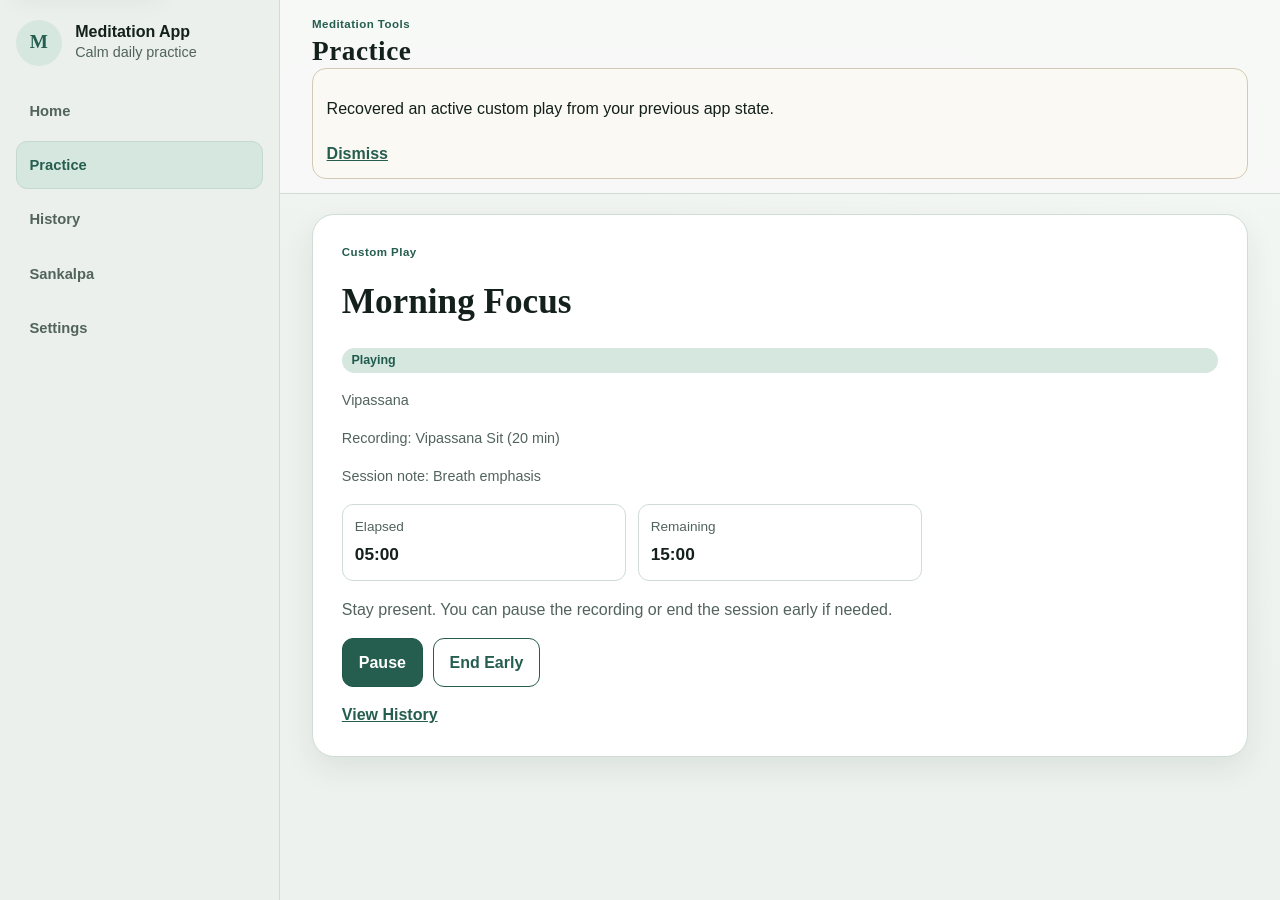
it: CustomPlayRunPage UX › ends an active custom play early and saves a custom-play-aware session log
The image size is (1280, 900).
Check: the heading "Morning Focus" is shown, box 342,282 -> 572,320
Check: the text "Recording: Vipassana Sit (20 min)" is shown, box 342,430 -> 560,446
What coordinates should you click on to do the following:
click the button "End Early"
I would click on:
 (486, 663)
Its box is 432,638 -> 540,687.
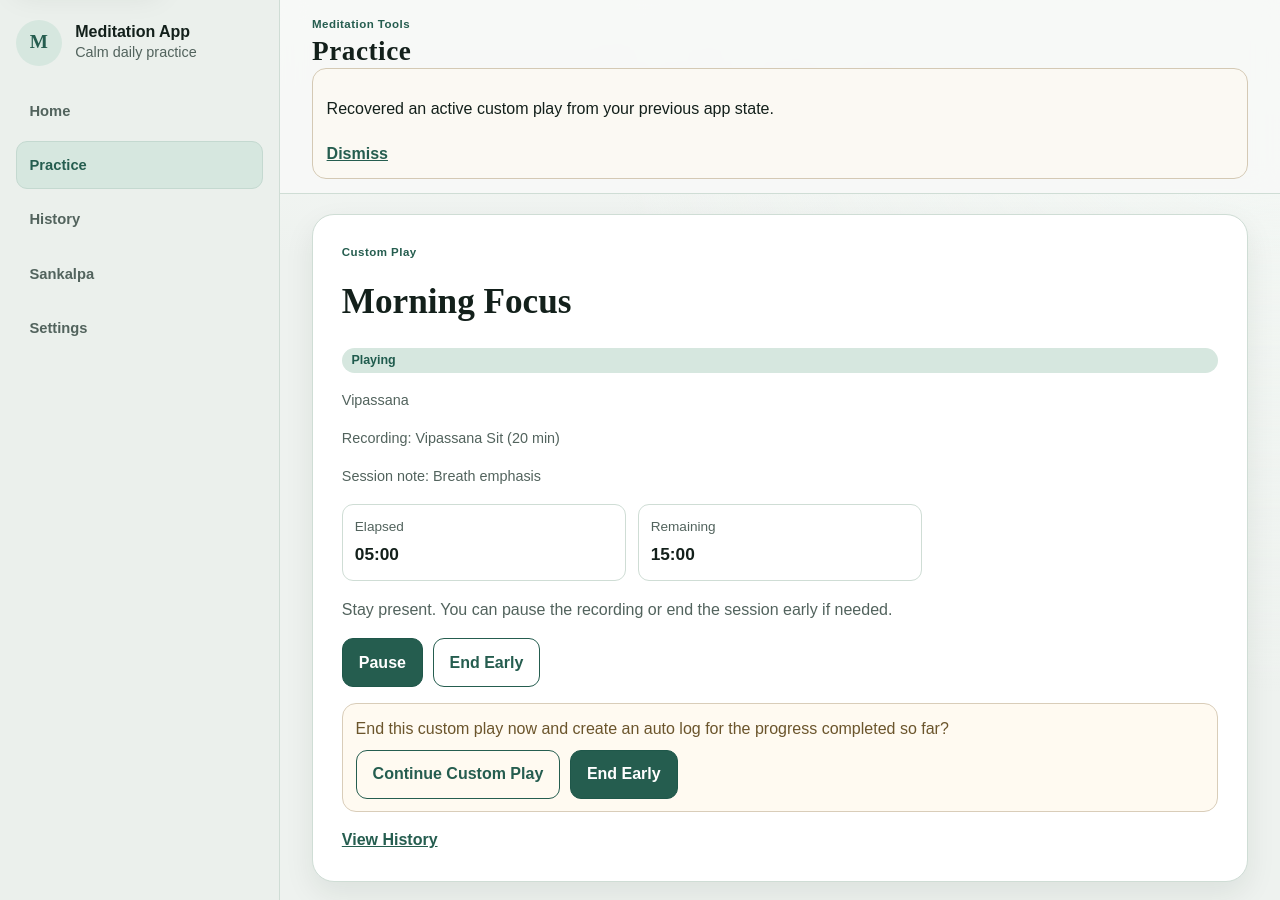
Check: the dialog named "end custom play early confirmation" is shown, box 342,703 -> 1218,812
What coordinates should you click on to do the following:
click the 2nd button "End Early"
I would click on:
 (624, 774)
Its box is 570,750 -> 678,799.
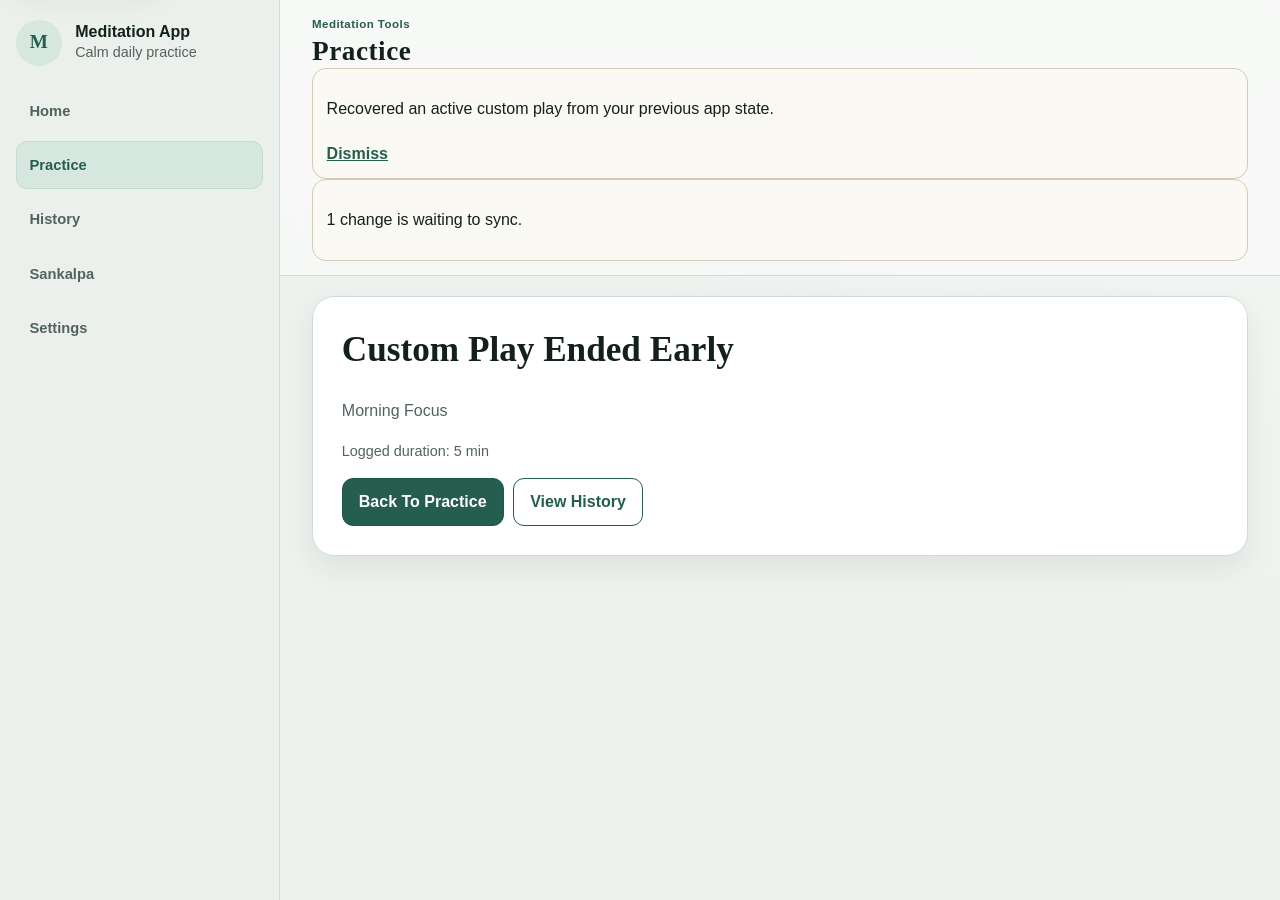
Check: the heading "Custom Play Ended Early" is shown, box 342,330 -> 734,369
Check: the text "Logged duration: 5 min" is shown, box 342,442 -> 489,458
